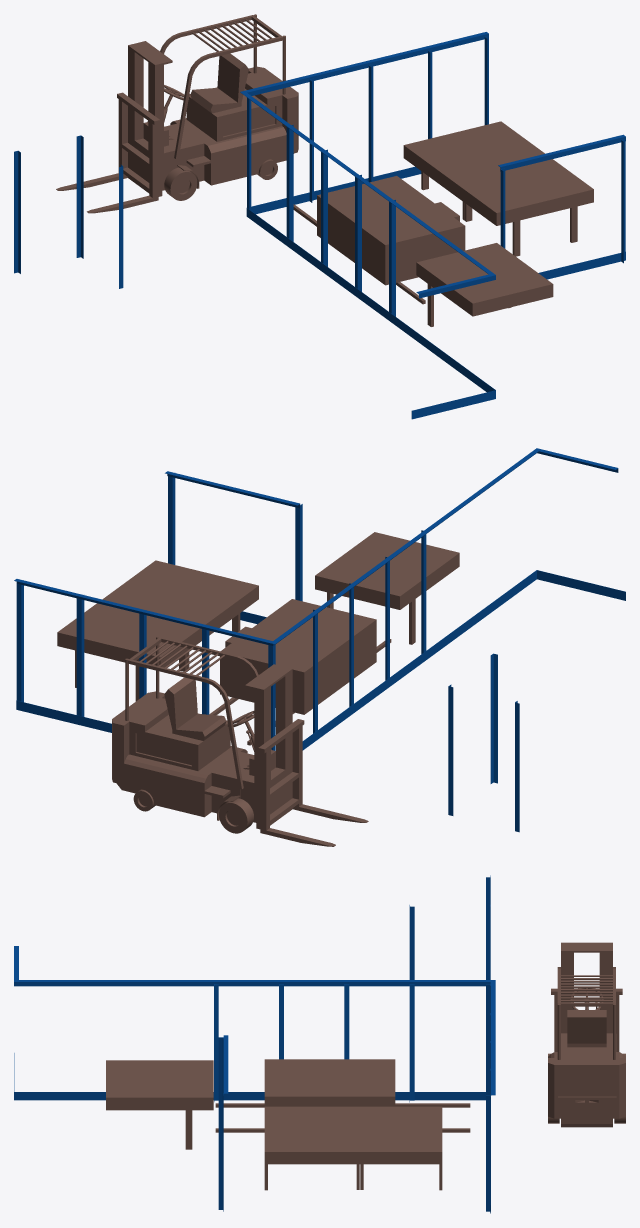
The model's file is GCC-AAV-13220-30.nwd(163).fbx.
3 views of the same model, one above another, from view 1: azimuth 30°, elevation 25°; view 2: azimuth 150°, elevation 25°; view 3: azimuth 270°, elevation 25° (orthographic). The views are drawn at different scales.
Visible parts, largest first — view 1: BOX 5 of SUBEQUIPMENT 58 of EQUIPMENT /721-U-102, EXTRUSION 3 of EQUIPMENT 37 of ZONE /13220-10-5201/ME/GT, BOX 1 of SUBEQUIPMENT 58 of EQUIPMENT /721-U-102, BOX 6 of SUBEQUIPMENT 57 of EQUIPMENT /721-U-102, GENSEC 14 of TMPLATE 1 of SUBEQUIPMENT 14 of EQUIPMENT /721-, GENSEC 15 of TMPLATE 1 of SUBEQUIPMENT 14 of EQUIPMENT /721-, BOX 5 of EQUIPMENT 37 of ZONE /13220-10-5201/ME/GT, EXTRUSION 1 of EQUIPMENT 37 of ZONE /13220-10-5201/ME/GT, EXTRUSION 5 of EQUIPMENT 37 of ZONE /13220-10-5201/ME/GT, BOX 4 of EQUIPMENT 37 of ZONE /13220-10-5201/ME/GT, EXTRUSION 2 of EQUIPMENT 37 of ZONE /13220-10-5201/ME/GT, GENSEC 5 of TMPLATE 1 of SUBEQUIPMENT 13 of EQUIPMENT /721-U (+15 smaller); view 2: EXTRUSION 3 of EQUIPMENT 37 of ZONE /13220-10-5201/ME/GT, BOX 5 of SUBEQUIPMENT 58 of EQUIPMENT /721-U-102, BOX 1 of SUBEQUIPMENT 58 of EQUIPMENT /721-U-102, BOX 6 of SUBEQUIPMENT 57 of EQUIPMENT /721-U-102, GENSEC 14 of TMPLATE 1 of SUBEQUIPMENT 14 of EQUIPMENT /721-, GENSEC 15 of TMPLATE 1 of SUBEQUIPMENT 14 of EQUIPMENT /721-, BOX 4 of EQUIPMENT 37 of ZONE /13220-10-5201/ME/GT, EXTRUSION 2 of EQUIPMENT 37 of ZONE /13220-10-5201/ME/GT, EXTRUSION 5 of EQUIPMENT 37 of ZONE /13220-10-5201/ME/GT, EXTRUSION 1 of EQUIPMENT 37 of ZONE /13220-10-5201/ME/GT, BOX 5 of EQUIPMENT 37 of ZONE /13220-10-5201/ME/GT, GENSEC 2 of TMPLATE 1 of SUBEQUIPMENT 14 of EQUIPMENT /721-U (+16 smaller); view 3: BOX 5 of SUBEQUIPMENT 58 of EQUIPMENT /721-U-102, BOX 1 of SUBEQUIPMENT 58 of EQUIPMENT /721-U-102, EXTRUSION 3 of EQUIPMENT 37 of ZONE /13220-10-5201/ME/GT, BOX 6 of SUBEQUIPMENT 57 of EQUIPMENT /721-U-102, GENSEC 15 of TMPLATE 1 of SUBEQUIPMENT 14 of EQUIPMENT /721-, GENSEC 14 of TMPLATE 1 of SUBEQUIPMENT 14 of EQUIPMENT /721-, EXTRUSION 5 of EQUIPMENT 37 of ZONE /13220-10-5201/ME/GT, BOX 5 of EQUIPMENT 37 of ZONE /13220-10-5201/ME/GT, GENSEC 6 of TMPLATE 1 of SUBEQUIPMENT 14 of EQUIPMENT /721-U, GENSEC 1 of TMPLATE 1 of SUBEQUIPMENT 19 of EQUIPMENT /721-U, BOX 4 of EQUIPMENT 37 of ZONE /13220-10-5201/ME/GT, GENSEC 1 of TMPLATE 1 of SUBEQUIPMENT 14 of EQUIPMENT /721-U (+3 smaller).
Boxes of the visible parts, x1,y1,x2,y2 form: BOX 5 of SUBEQUIPMENT 58 of EQUIPMENT /721-U-102: (403, 121, 593, 225); EXTRUSION 3 of EQUIPMENT 37 of ZONE /13220-10-5201/ME/GT: (128, 66, 298, 196); BOX 1 of SUBEQUIPMENT 58 of EQUIPMENT /721-U-102: (317, 176, 465, 285); BOX 6 of SUBEQUIPMENT 57 of EQUIPMENT /721-U-102: (416, 243, 553, 316); GENSEC 14 of TMPLATE 1 of SUBEQUIPMENT 14 of EQUIPMENT /721-: (246, 166, 495, 419); GENSEC 15 of TMPLATE 1 of SUBEQUIPMENT 14 of EQUIPMENT /721-: (240, 32, 495, 298); BOX 5 of EQUIPMENT 37 of ZONE /13220-10-5201/ME/GT: (128, 47, 143, 140); EXTRUSION 1 of EQUIPMENT 37 of ZONE /13220-10-5201/ME/GT: (87, 122, 158, 213); EXTRUSION 5 of EQUIPMENT 37 of ZONE /13220-10-5201/ME/GT: (217, 53, 248, 102); BOX 4 of EQUIPMENT 37 of ZONE /13220-10-5201/ME/GT: (148, 62, 163, 154); EXTRUSION 2 of EQUIPMENT 37 of ZONE /13220-10-5201/ME/GT: (56, 99, 127, 190); GENSEC 5 of TMPLATE 1 of SUBEQUIPMENT 13 of EQUIPMENT /721-U: (76, 135, 83, 258); EXTRUSION 3 of EQUIPMENT 37 of ZONE /13220-10-5201/ME/GT: (112, 691, 292, 829); BOX 5 of SUBEQUIPMENT 58 of EQUIPMENT /721-U-102: (57, 560, 258, 667); BOX 1 of SUBEQUIPMENT 58 of EQUIPMENT /721-U-102: (220, 599, 376, 714); BOX 6 of SUBEQUIPMENT 57 of EQUIPMENT /721-U-102: (315, 532, 459, 609); GENSEC 14 of TMPLATE 1 of SUBEQUIPMENT 14 of EQUIPMENT /721-: (16, 570, 625, 750); GENSEC 15 of TMPLATE 1 of SUBEQUIPMENT 14 of EQUIPMENT /721-: (14, 448, 618, 645); BOX 4 of EQUIPMENT 37 of ZONE /13220-10-5201/ME/GT: (276, 671, 292, 769); EXTRUSION 2 of EQUIPMENT 37 of ZONE /13220-10-5201/ME/GT: (260, 749, 335, 846); EXTRUSION 5 of EQUIPMENT 37 of ZONE /13220-10-5201/ME/GT: (164, 677, 197, 729); EXTRUSION 1 of EQUIPMENT 37 of ZONE /13220-10-5201/ME/GT: (292, 726, 368, 822); BOX 5 of EQUIPMENT 37 of ZONE /13220-10-5201/ME/GT: (254, 687, 270, 784); GENSEC 2 of TMPLATE 1 of SUBEQUIPMENT 14 of EQUIPMENT /721-U: (76, 598, 84, 716); BOX 5 of SUBEQUIPMENT 58 of EQUIPMENT /721-U-102: (264, 1106, 442, 1164); BOX 1 of SUBEQUIPMENT 58 of EQUIPMENT /721-U-102: (264, 1059, 395, 1106); EXTRUSION 3 of EQUIPMENT 37 of ZONE /13220-10-5201/ME/GT: (548, 1033, 625, 1127); BOX 6 of SUBEQUIPMENT 57 of EQUIPMENT /721-U-102: (106, 1060, 213, 1110); GENSEC 15 of TMPLATE 1 of SUBEQUIPMENT 14 of EQUIPMENT /721-: (14, 946, 495, 1098); GENSEC 14 of TMPLATE 1 of SUBEQUIPMENT 14 of EQUIPMENT /721-: (14, 1053, 490, 1213); EXTRUSION 5 of EQUIPMENT 37 of ZONE /13220-10-5201/ME/GT: (567, 1010, 606, 1043); BOX 5 of EQUIPMENT 37 of ZONE /13220-10-5201/ME/GT: (599, 952, 612, 1033); GENSEC 6 of TMPLATE 1 of SUBEQUIPMENT 14 of EQUIPMENT /721-U: (409, 984, 414, 1102); GENSEC 1 of TMPLATE 1 of SUBEQUIPMENT 19 of EQUIPMENT /721-U: (218, 1093, 223, 1211); BOX 4 of EQUIPMENT 37 of ZONE /13220-10-5201/ME/GT: (561, 952, 573, 1033); GENSEC 1 of TMPLATE 1 of SUBEQUIPMENT 14 of EQUIPMENT /721-U: (486, 1095, 490, 1212).
Size of the model in its own units: 316 by 87.79 by 369.
